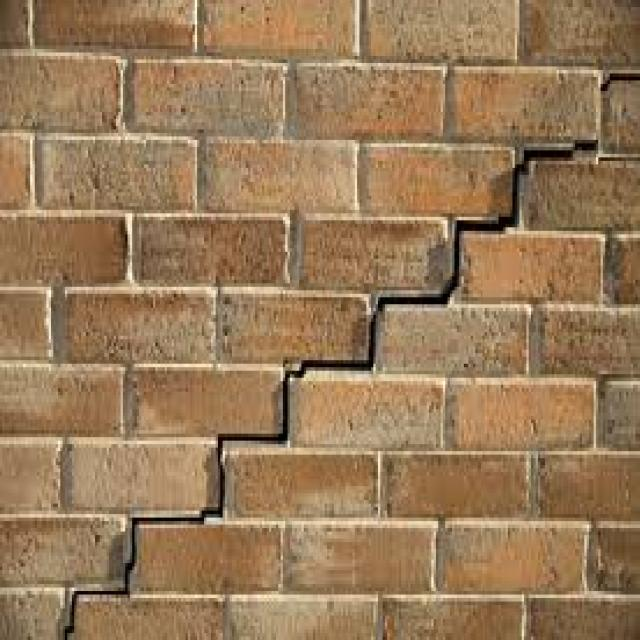Crack: (58, 59, 635, 636)
